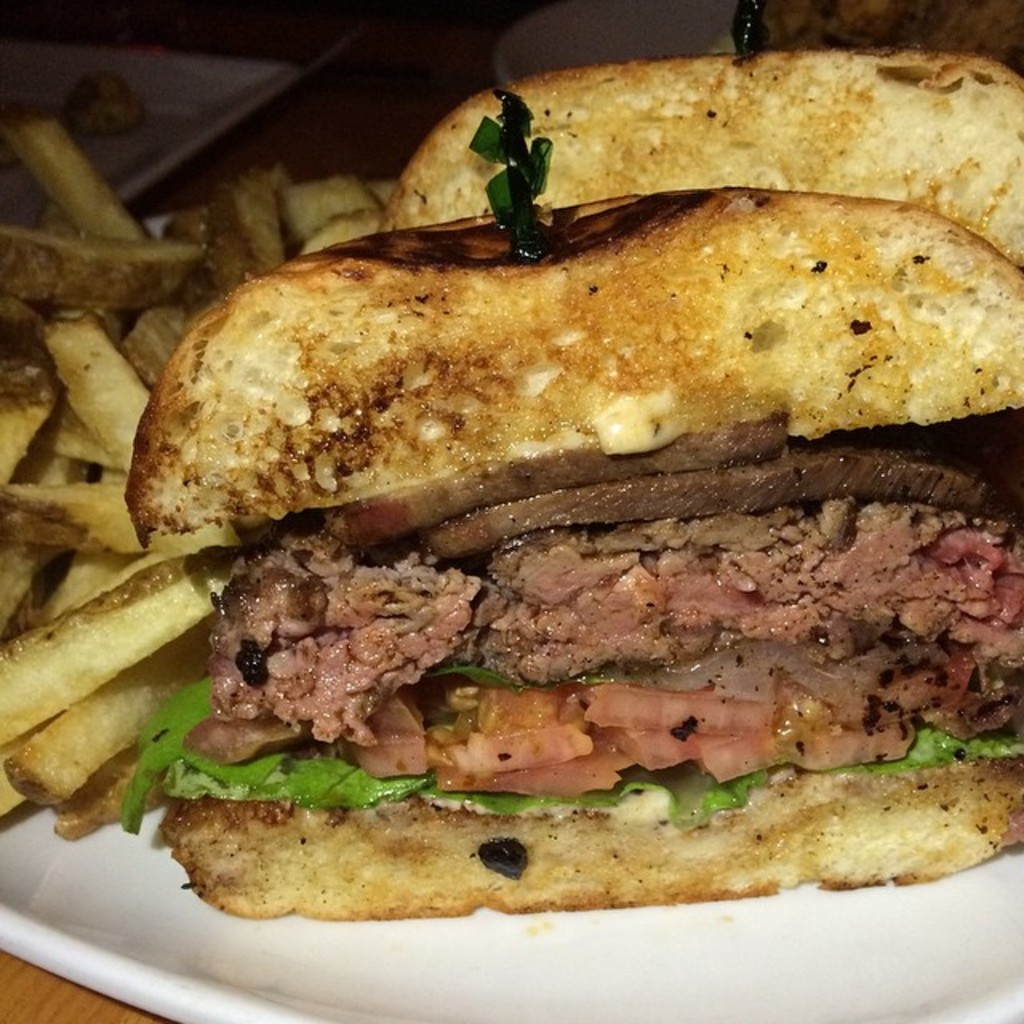Hamburger: (121, 86, 1022, 920), (374, 0, 1022, 256)
